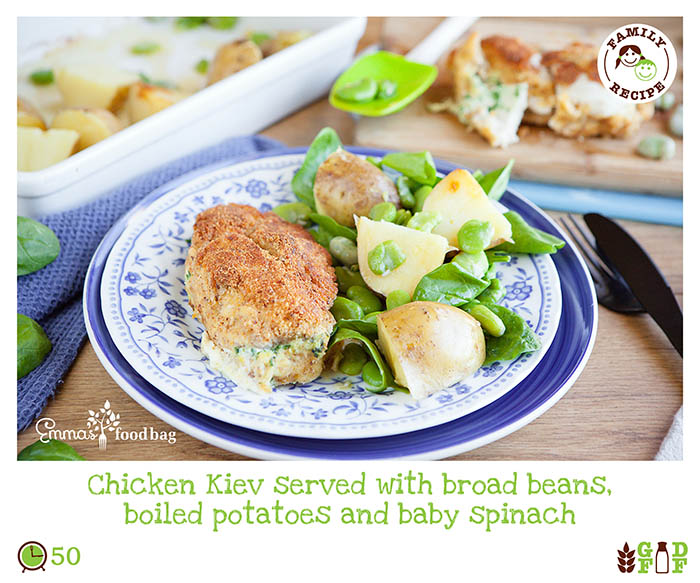boiled peas: (335, 279, 381, 331)
boiled potatoes: (366, 302, 489, 396)
